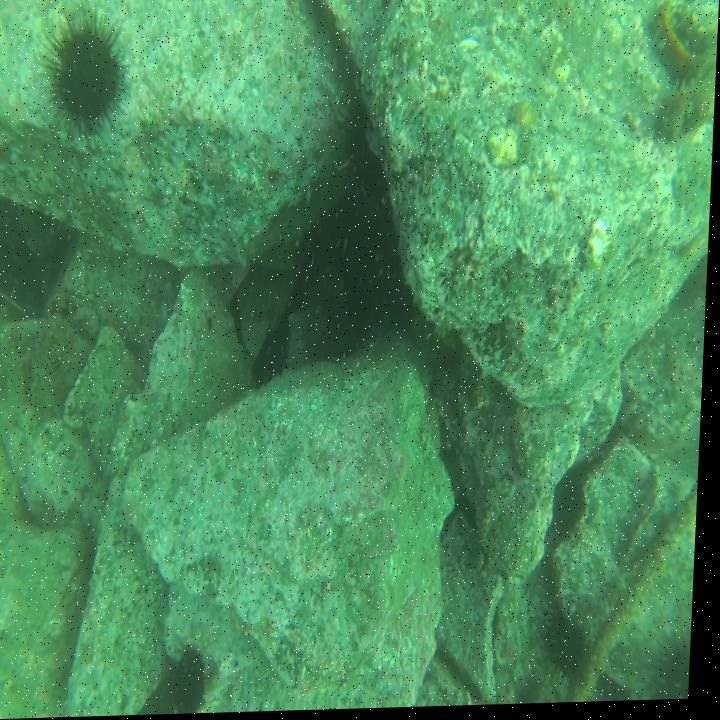echinus: (41, 14, 126, 138), (177, 647, 214, 713)
